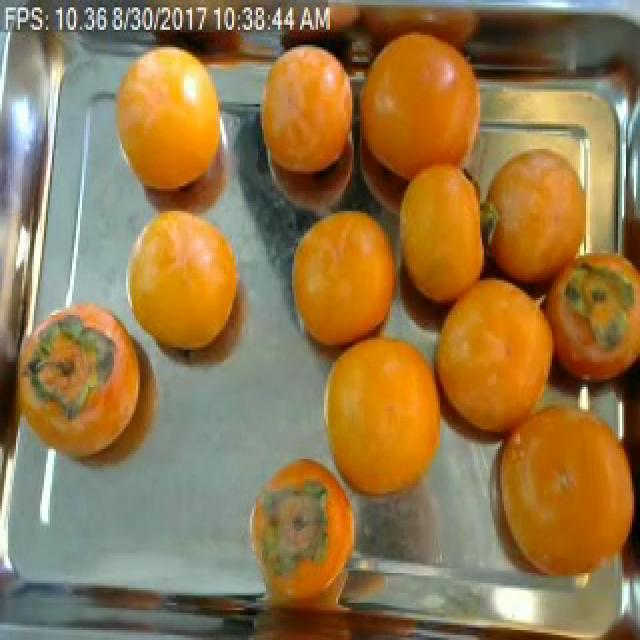Fruit: (20, 293, 180, 491), (110, 191, 270, 387), (304, 315, 448, 523), (476, 94, 608, 315), (100, 27, 238, 216), (272, 191, 402, 377), (232, 444, 364, 620), (246, 28, 354, 198)
